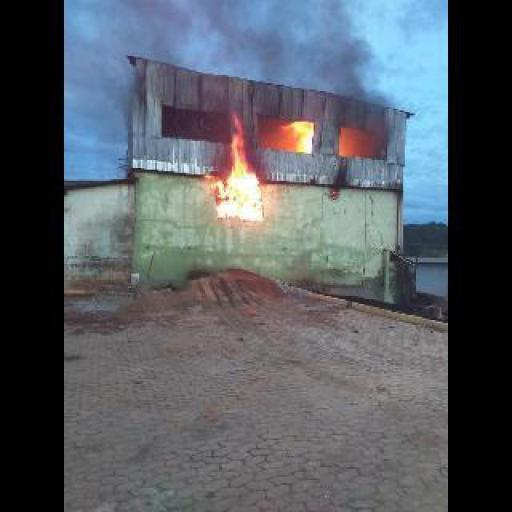smoke: (75, 4, 320, 118), (318, 14, 396, 134), (203, 112, 266, 221), (277, 122, 315, 152)
